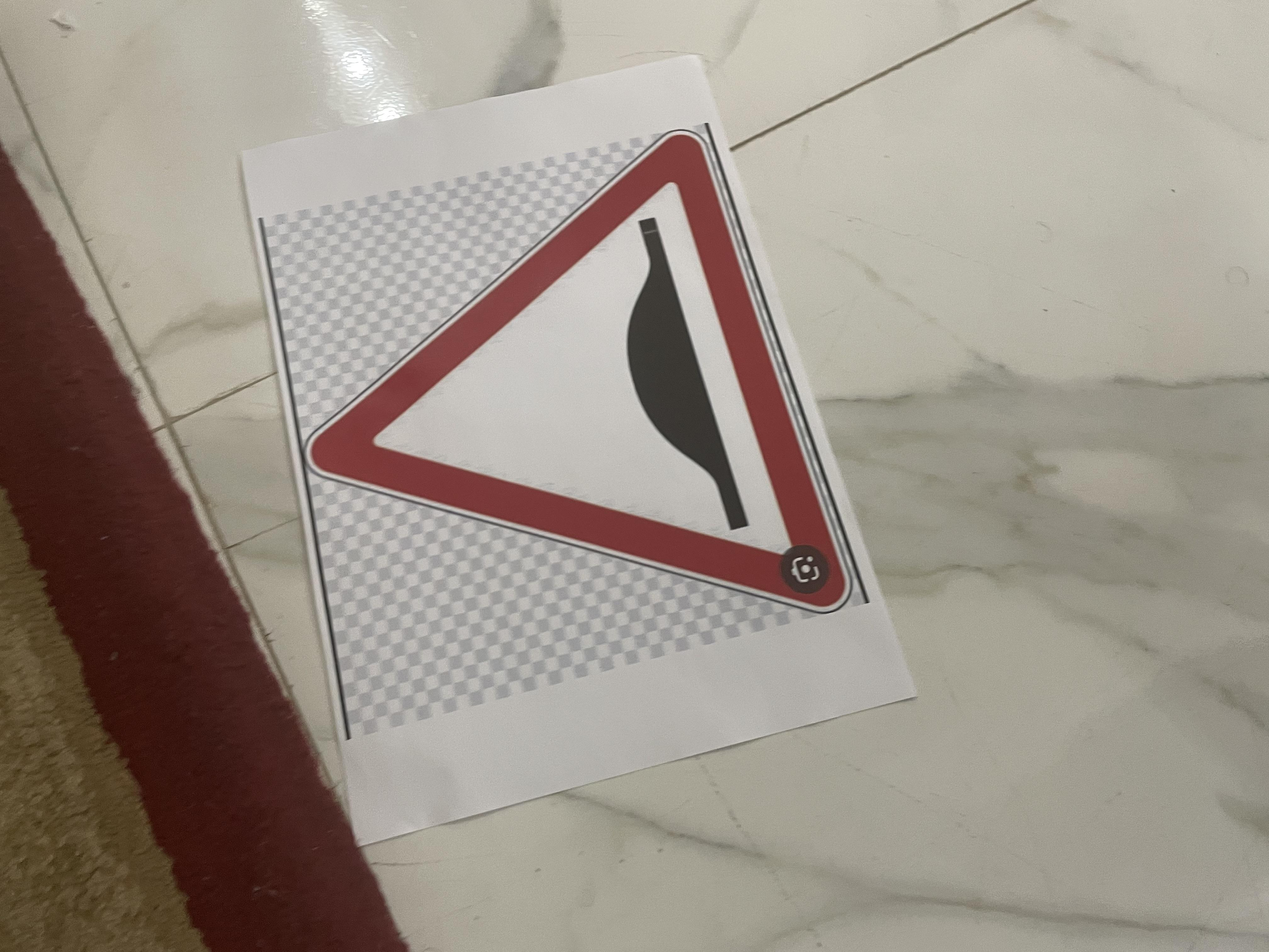Hump: (449, 222, 1100, 645)
